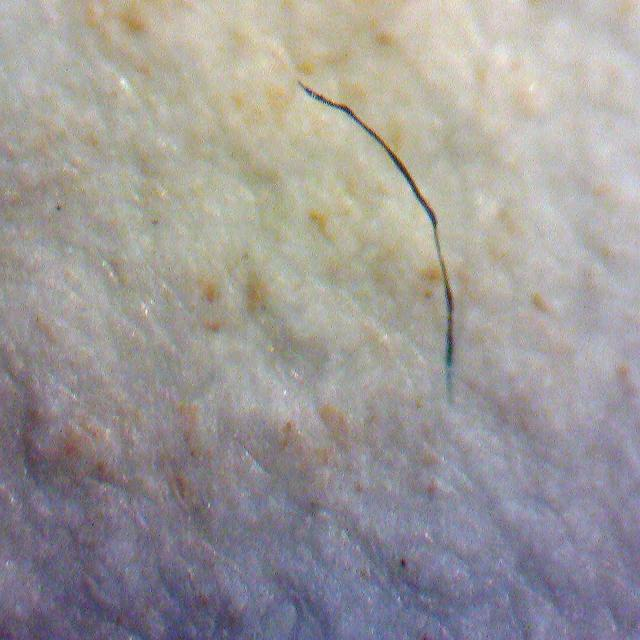microplastic: (299, 83, 456, 373)
